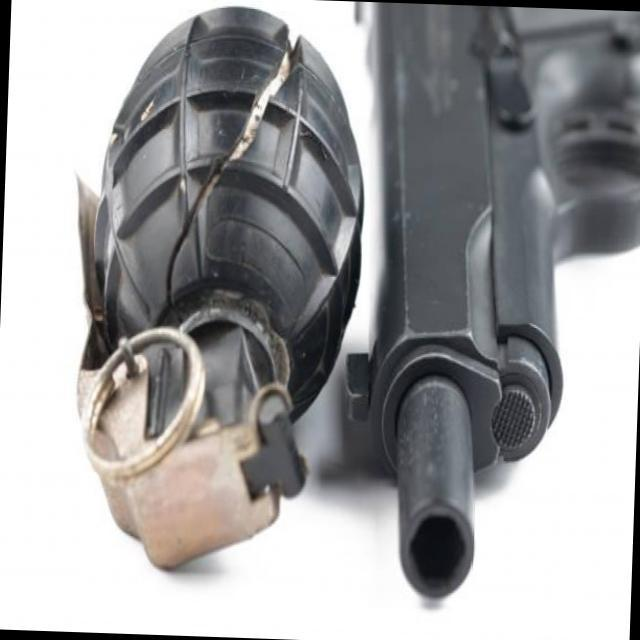grenade: (61, 0, 384, 577)
